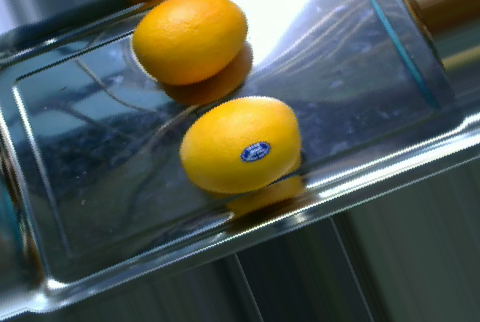Orange: (179, 95, 302, 194), (131, 1, 248, 84)
